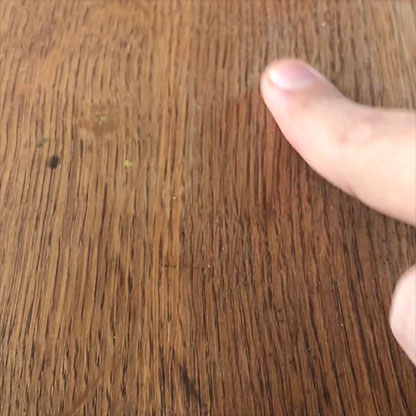fingertip: (254, 43, 338, 114)
